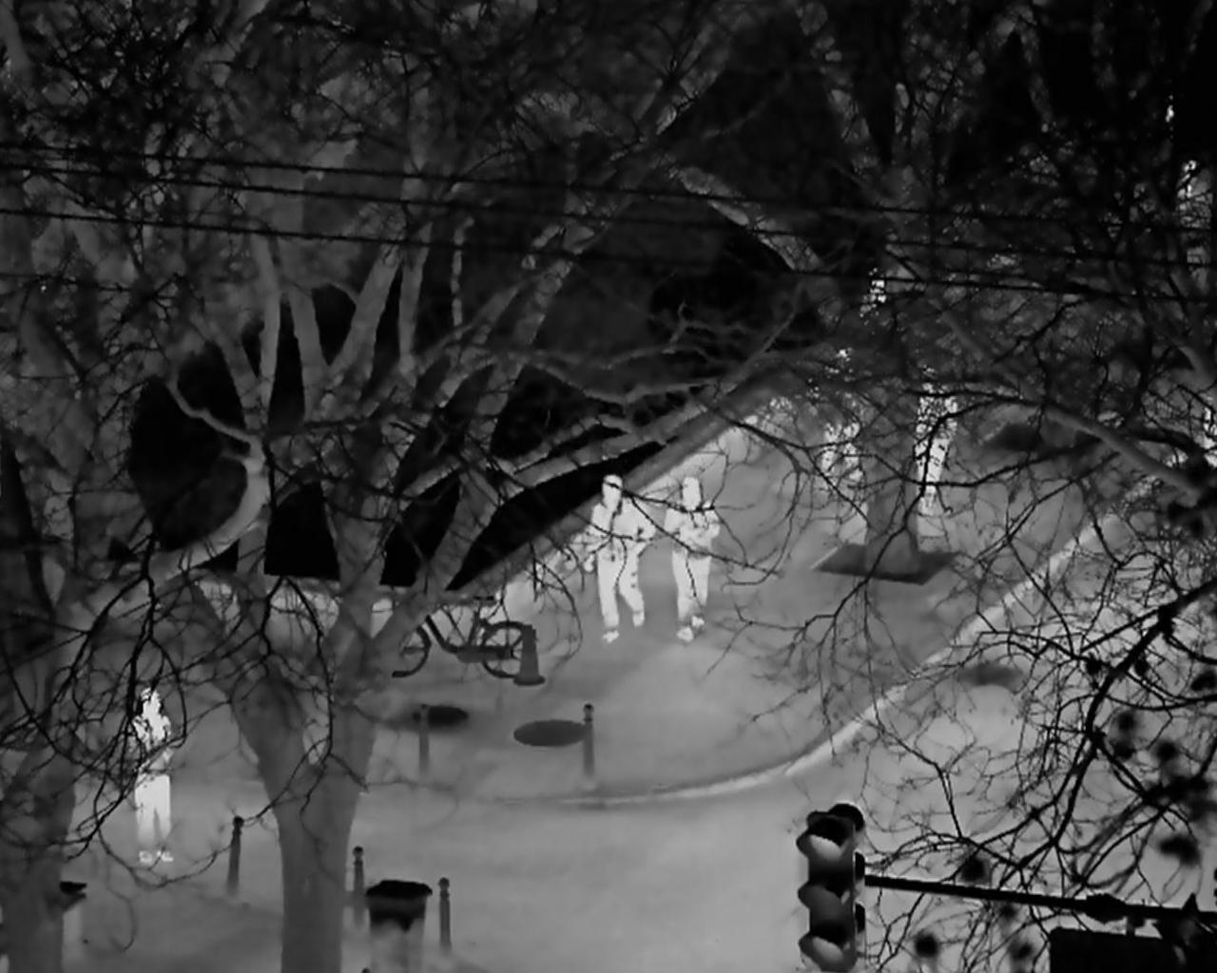person: (582, 472, 656, 645), (663, 475, 719, 643), (127, 688, 178, 865)
